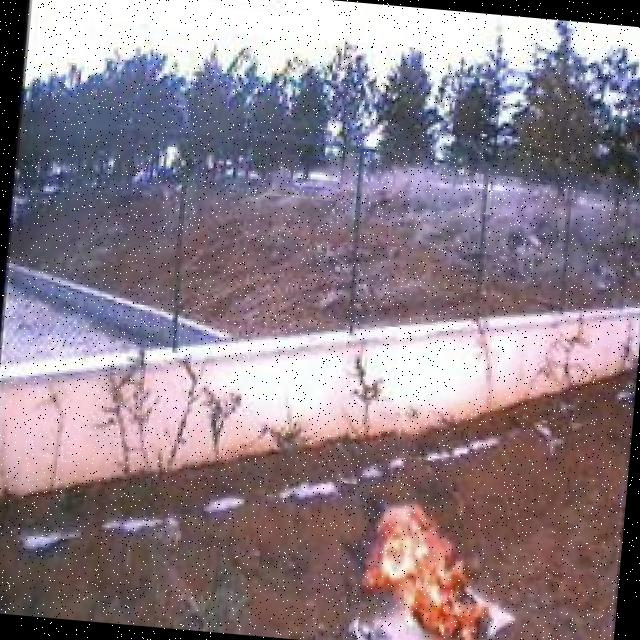fire: (355, 484, 507, 640)
